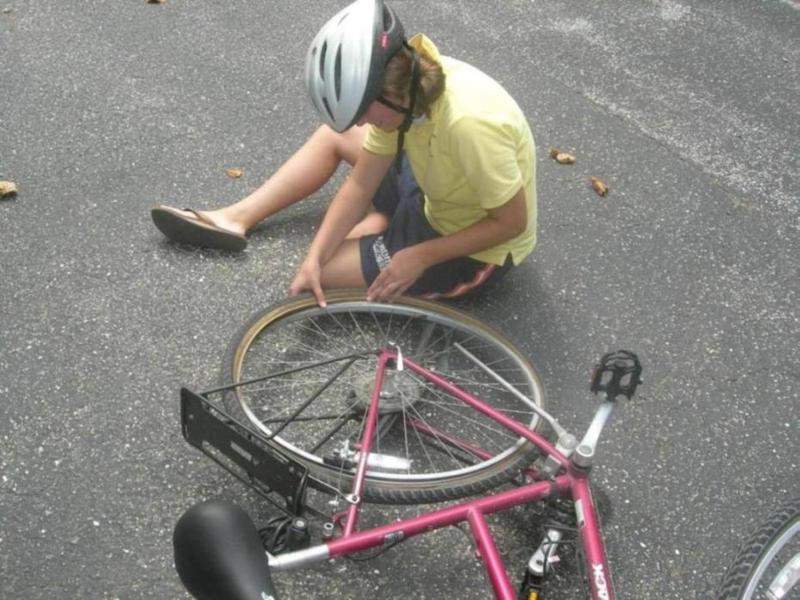person: (152, 5, 541, 302)
